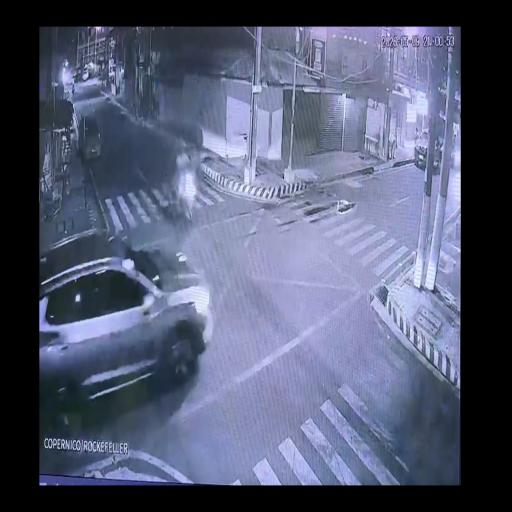Car: (42, 243, 207, 387)
Motor: (174, 138, 200, 221)
